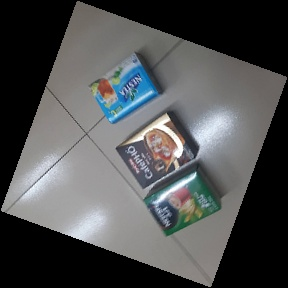CF pho: (115, 111, 196, 189)
Nes Rang: (143, 163, 222, 235)
Nestea: (89, 52, 163, 124)
